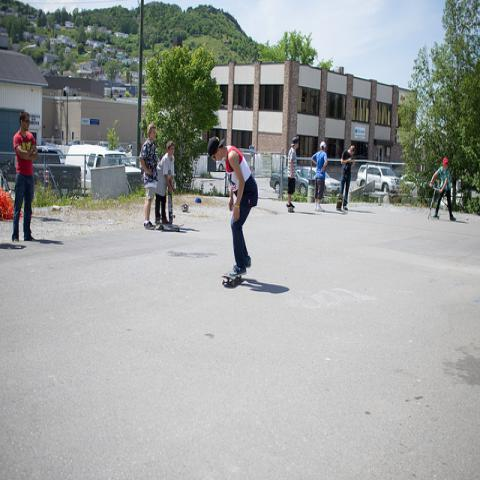car: (298, 166, 340, 198), (356, 164, 402, 193), (270, 167, 308, 195), (401, 173, 430, 198), (215, 157, 226, 171)
truck: (65, 145, 141, 193), (32, 149, 81, 192)
